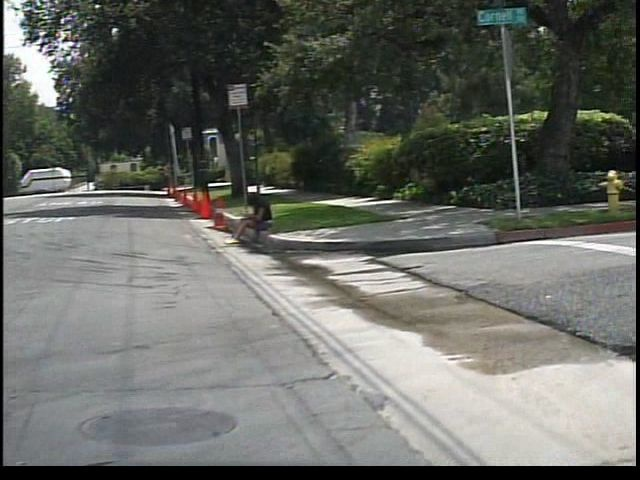person: (230, 191, 287, 246)
